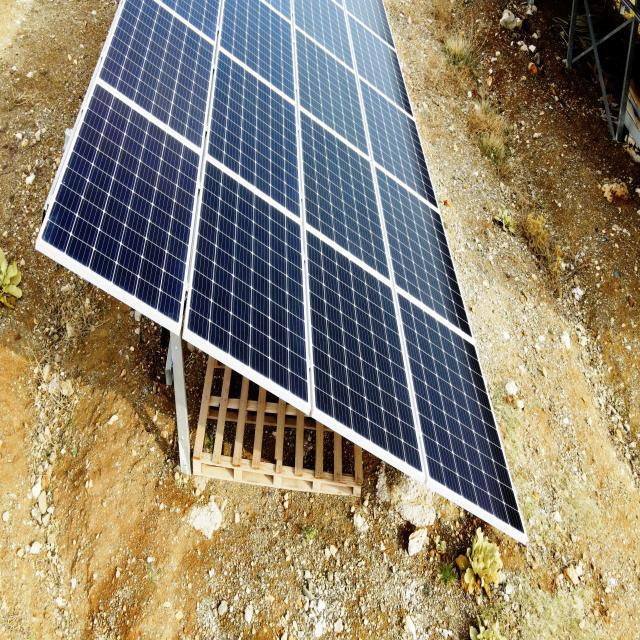no faulty: (44, 81, 532, 528), (101, 2, 520, 334)
